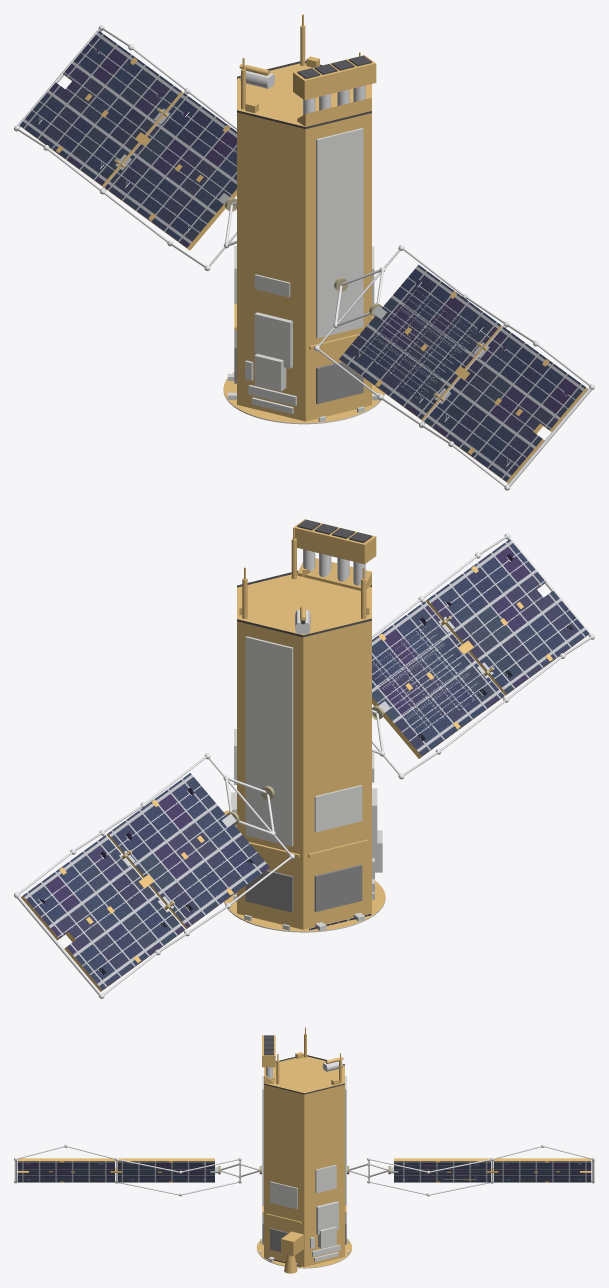
The model's file is oco-2.glb.
The picture shows the model from 3 angles, top to bottom: view 1: azimuth 30°, elevation 25°; view 2: azimuth 150°, elevation 25°; view 3: azimuth 270°, elevation 25°; orthographic projection. The views are drawn at different scales.
Parts seen in each view (by area): view 1: Layer_0; view 2: Layer_0; view 3: Layer_0.
Boxes of the visible parts, <box> form: Layer_0: <box>14,14,594,490</box>; Layer_0: <box>14,519,594,998</box>; Layer_0: <box>14,1027,594,1273</box>.
Bounding box in the file's own units: 1.05 × 2.12 × 5.48.
8 materials, 1 textured.
